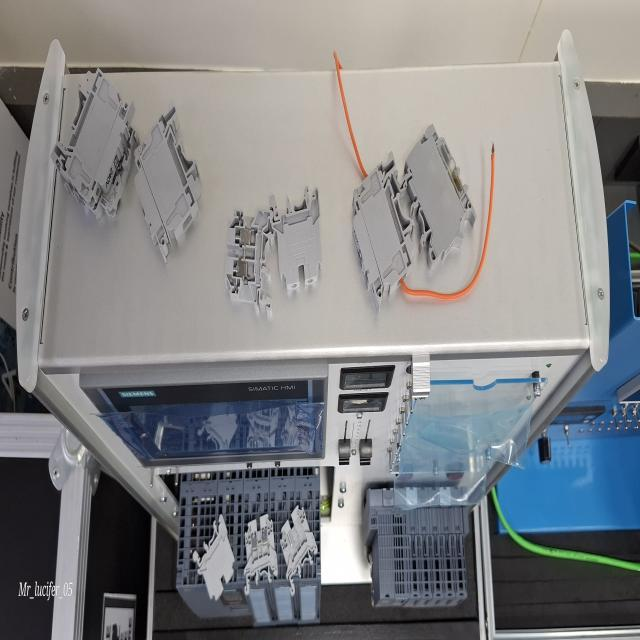Inverted: (266, 164, 327, 298), (187, 500, 240, 606)
Pass: (215, 186, 279, 338), (237, 506, 280, 600)
Reject: (273, 498, 322, 604)
